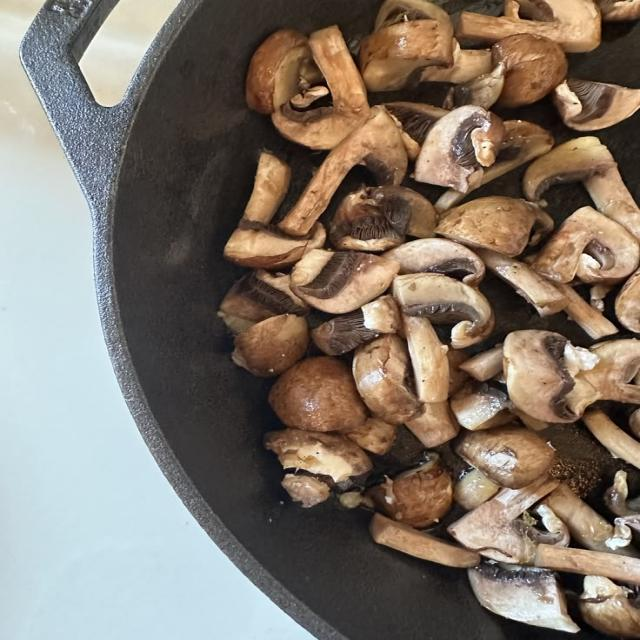champignon mushrooms: (448, 477, 639, 583), (279, 107, 407, 236), (224, 153, 326, 269), (273, 26, 369, 149), (523, 137, 639, 238), (448, 476, 558, 563), (504, 330, 597, 422), (533, 207, 639, 283), (360, 5, 453, 91), (415, 106, 505, 191), (468, 564, 579, 632), (456, 0, 601, 52), (394, 274, 494, 349), (269, 357, 367, 431), (436, 197, 553, 257), (330, 186, 437, 251), (291, 250, 399, 313), (455, 425, 555, 489), (523, 137, 616, 204), (367, 456, 453, 528), (246, 30, 319, 113), (353, 335, 421, 424), (477, 250, 567, 317), (543, 484, 629, 554), (370, 514, 480, 567), (265, 429, 372, 482), (219, 270, 308, 333), (493, 33, 567, 107), (312, 296, 401, 355), (569, 340, 639, 414), (478, 121, 553, 187), (383, 239, 485, 287), (232, 314, 309, 377), (554, 79, 639, 131), (534, 544, 639, 583), (403, 314, 449, 403), (579, 576, 639, 638), (385, 102, 448, 159), (554, 283, 618, 339), (583, 410, 639, 468), (420, 41, 492, 83), (451, 383, 513, 431), (447, 63, 505, 109), (605, 471, 639, 546), (406, 402, 459, 448), (374, 0, 449, 30), (340, 418, 397, 455), (454, 469, 499, 510), (281, 474, 330, 508), (532, 504, 570, 547), (460, 344, 503, 381), (615, 271, 639, 333), (447, 350, 469, 397), (597, 0, 639, 21), (512, 408, 549, 431), (629, 410, 639, 439)
